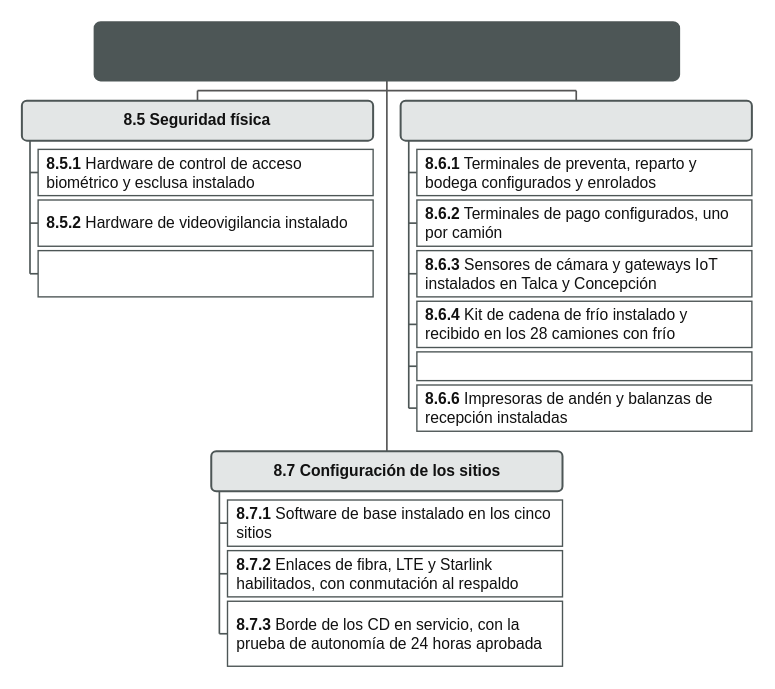
Image size: 775x689. Some labels were removed from this diagram. Each missing label, with the centre of its shape:
8. Infraestructura, equipamiento y servicios habilitados (2 de 2): point 386,50
8.5.3 Recinto de custodia de respaldos habilitado: point 205,273
8.6 Equipamiento de campo: point 575,120
8.6.5 Impresoras de cabina instaladas: point 584,366
